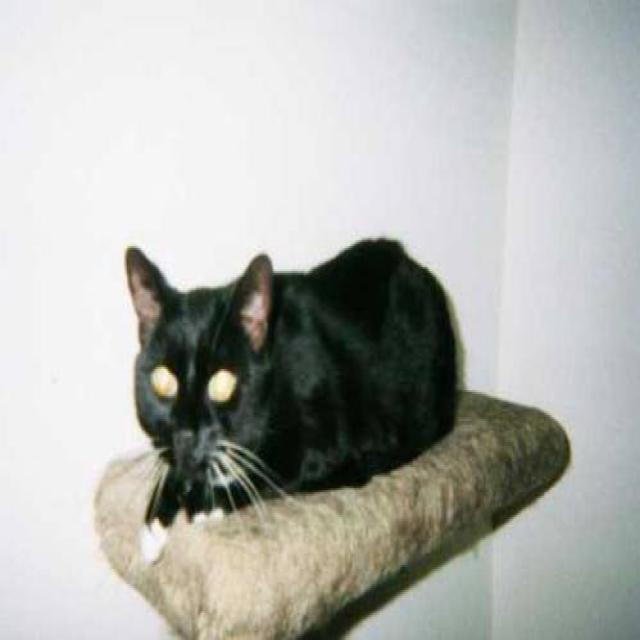cat: (122, 235, 463, 565)
